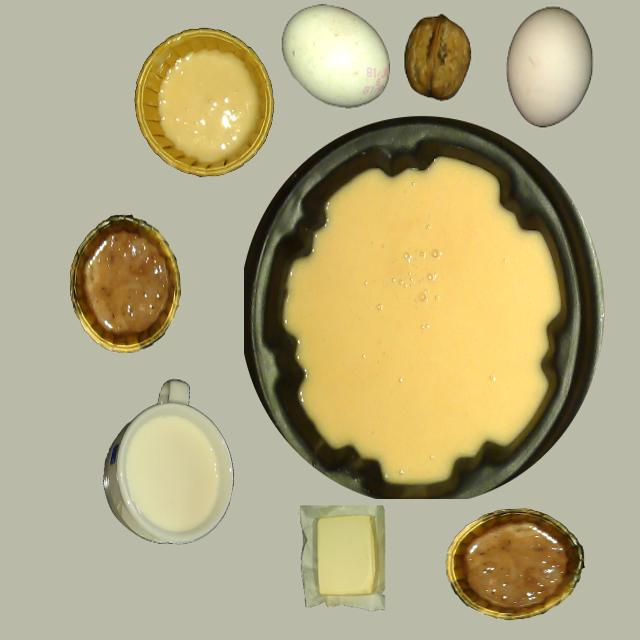Walnut: (404, 14, 471, 100)
